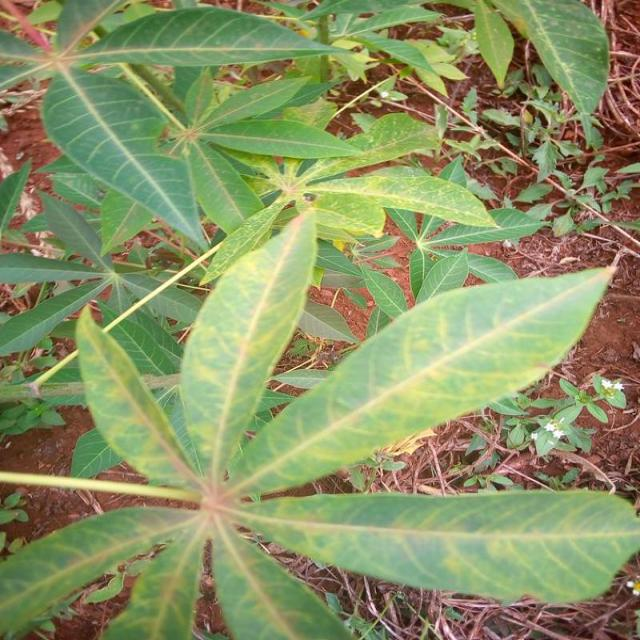cassava leaf: (0, 210, 638, 638), (225, 262, 618, 499), (233, 486, 639, 605), (178, 205, 318, 477), (38, 64, 210, 256)
